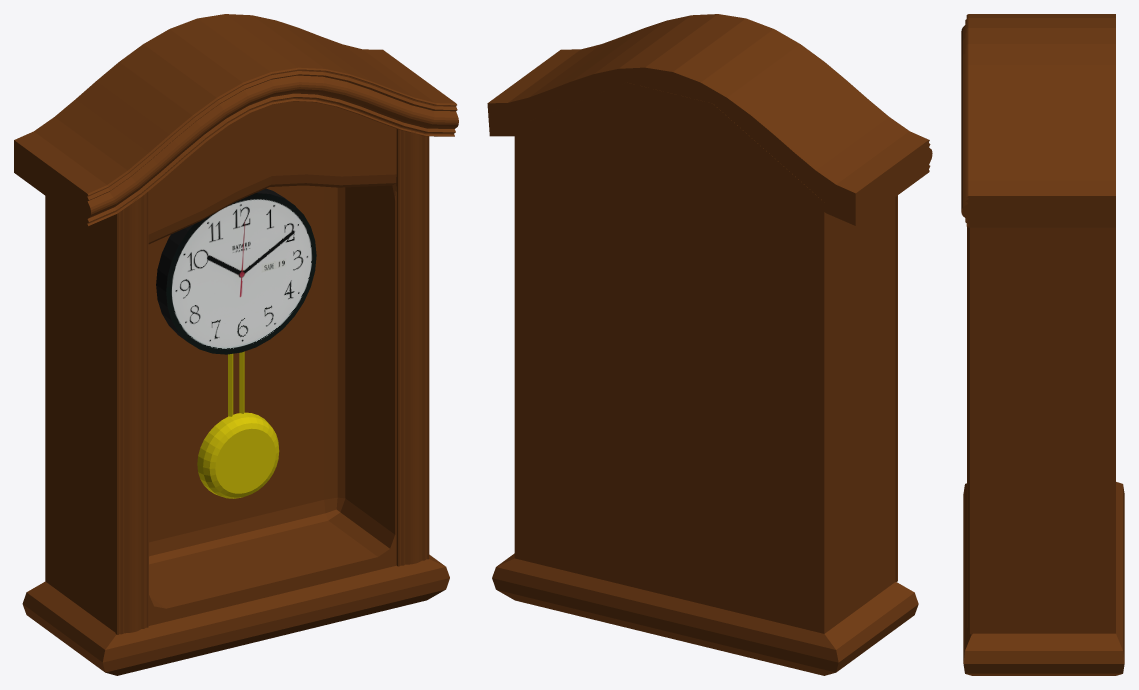
Rendered from Pendule.fbx.
The picture shows the model from 3 angles, left to right: view 1: azimuth 30°, elevation 25°; view 2: azimuth 150°, elevation 25°; view 3: azimuth 270°, elevation 25°; orthographic projection.
Parts seen in each view (by area): view 1: Cube, Cube.002, Cube.001, Cylinder; view 2: Cube, Cube.002, Cube.001; view 3: Cube, Cube.002, Cube.001.
Part boxes in pixels (<box>): Cube: <box>22,101,449,675</box>; Cube.002: <box>14,14,458,226</box>; Cube.001: <box>115,129,429,634</box>; Cylinder: <box>156,188,316,498</box>; Cube: <box>492,82,918,675</box>; Cube.002: <box>487,14,932,225</box>; Cube.001: <box>895,195,897,581</box>; Cube: <box>963,227,1124,675</box>; Cube.002: <box>961,14,1115,227</box>; Cube.001: <box>967,227,972,634</box>.
Bounding box in the file's own units: 119 × 175 × 45.42.
Materials: 4 (1 with a texture image).
